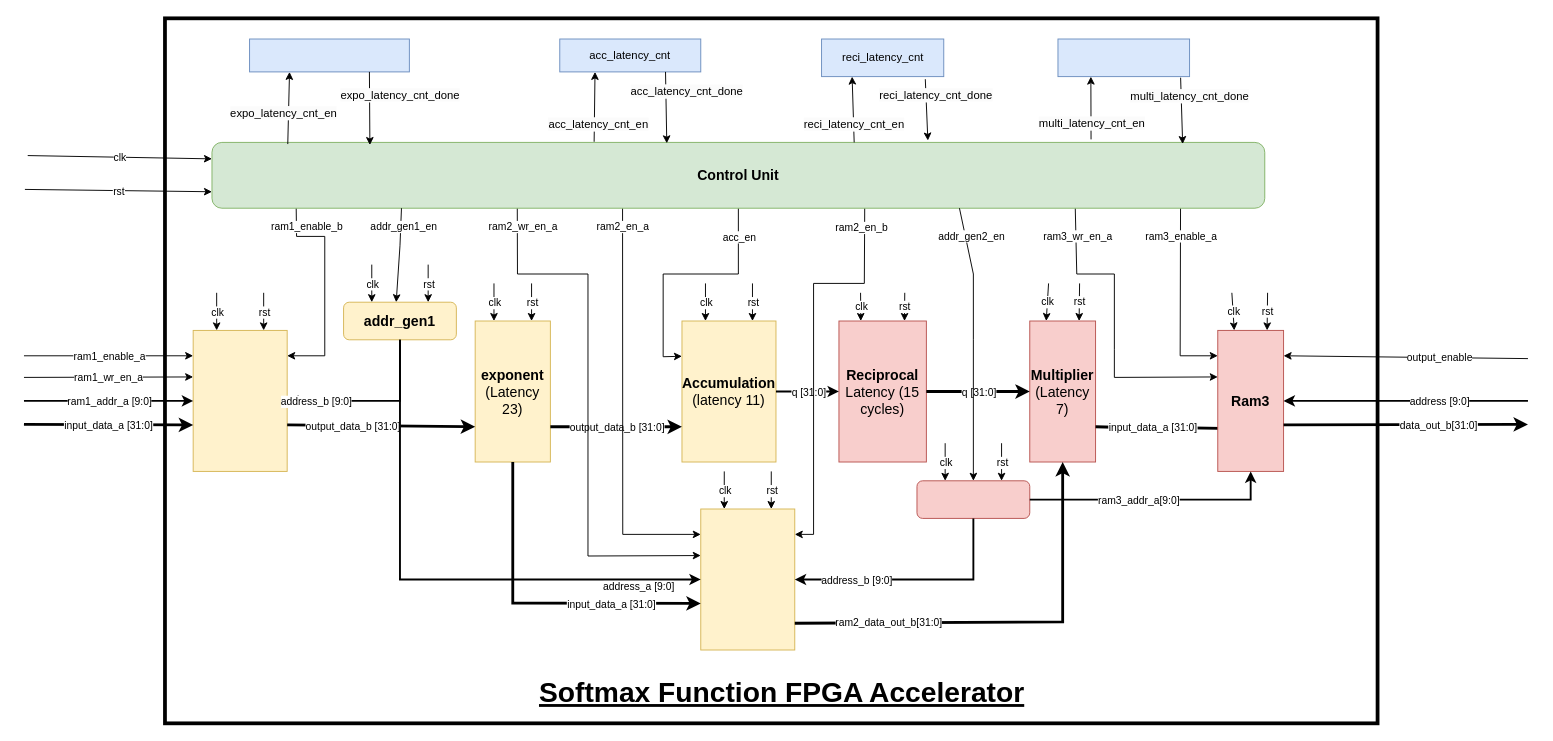
The diagram is 1553 pixels wide and 741 high, and some of its shapes have lost their labels. The centre of each missing label's shape, as x and y in pixels:
"addr_gen2" belongs at (x=973, y=499).
"expo_latency_cnt" belongs at (x=329, y=55).
"multi_latency_cnt" belongs at (x=1123, y=57).
"Ram1" belongs at (x=239, y=400).
"Ram2" belongs at (x=747, y=579).
